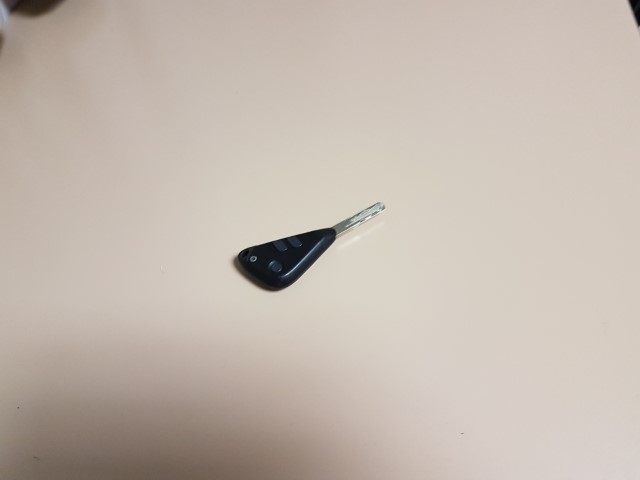key: (238, 200, 386, 292)
